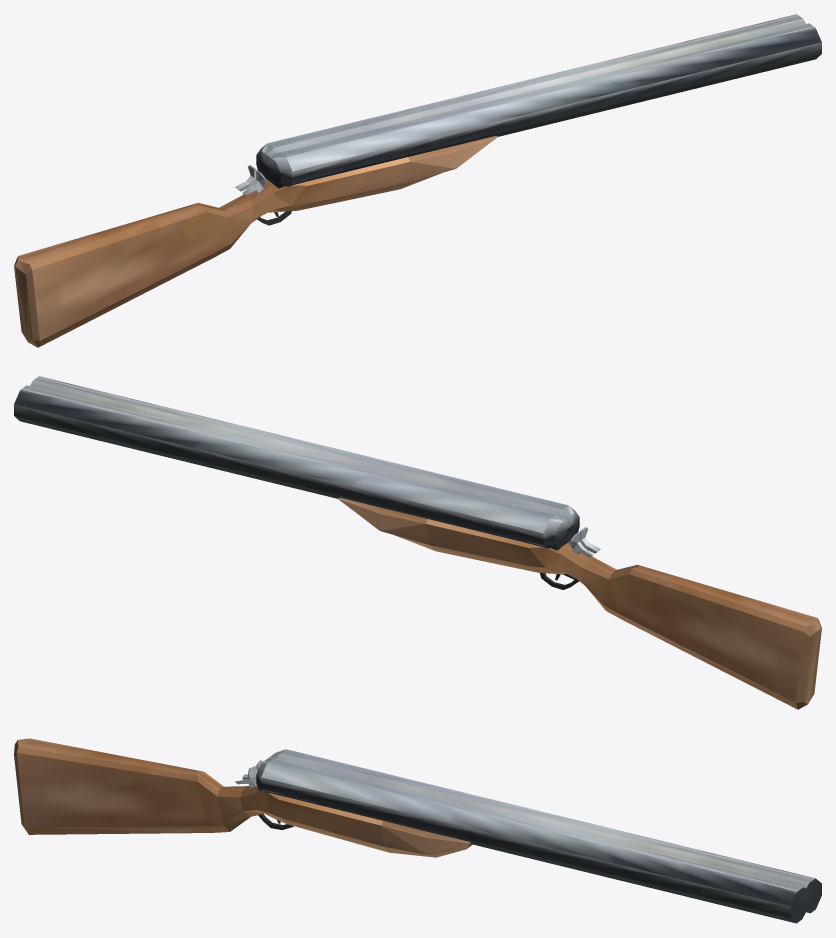
Rendered from debug.obj.
3 views of the same model, one above another, from view 1: azimuth 30°, elevation 25°; view 2: azimuth 150°, elevation 25°; view 3: azimuth 330°, elevation 25° (orthographic).
Visible parts, largest first — view 1: Cube.001, Cube; view 2: Cube.001, Cube; view 3: Cube.001, Cube.
Part boxes in pixels (<box>): Cube.001: <box>256,14,821,188</box>; Cube: <box>14,135,497,347</box>; Cube.001: <box>14,376,579,550</box>; Cube: <box>338,497,821,709</box>; Cube.001: <box>256,749,821,923</box>; Cube: <box>14,738,472,857</box>.
Size of the model in its own units: 4.33 by 0.7047 by 0.2975.
1 material, 1 textured.
